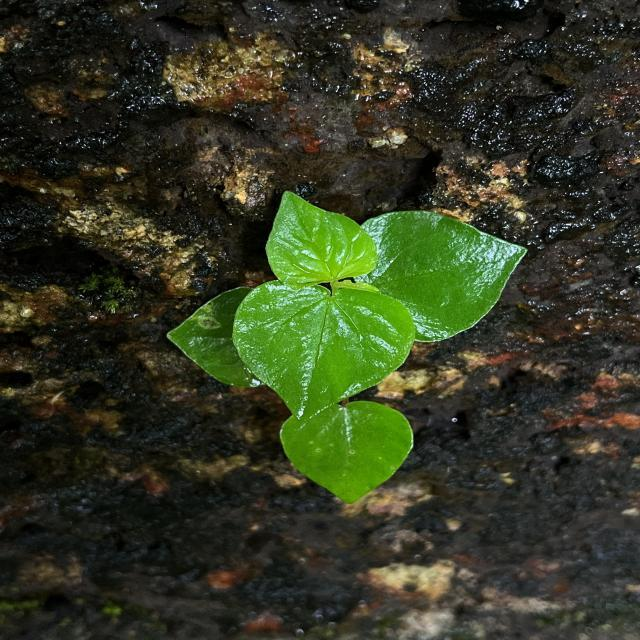Peperomia pellucida: (228, 278, 418, 424), (353, 206, 532, 348), (262, 189, 379, 292)
